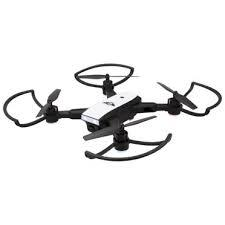drone: (3, 62, 223, 163)
